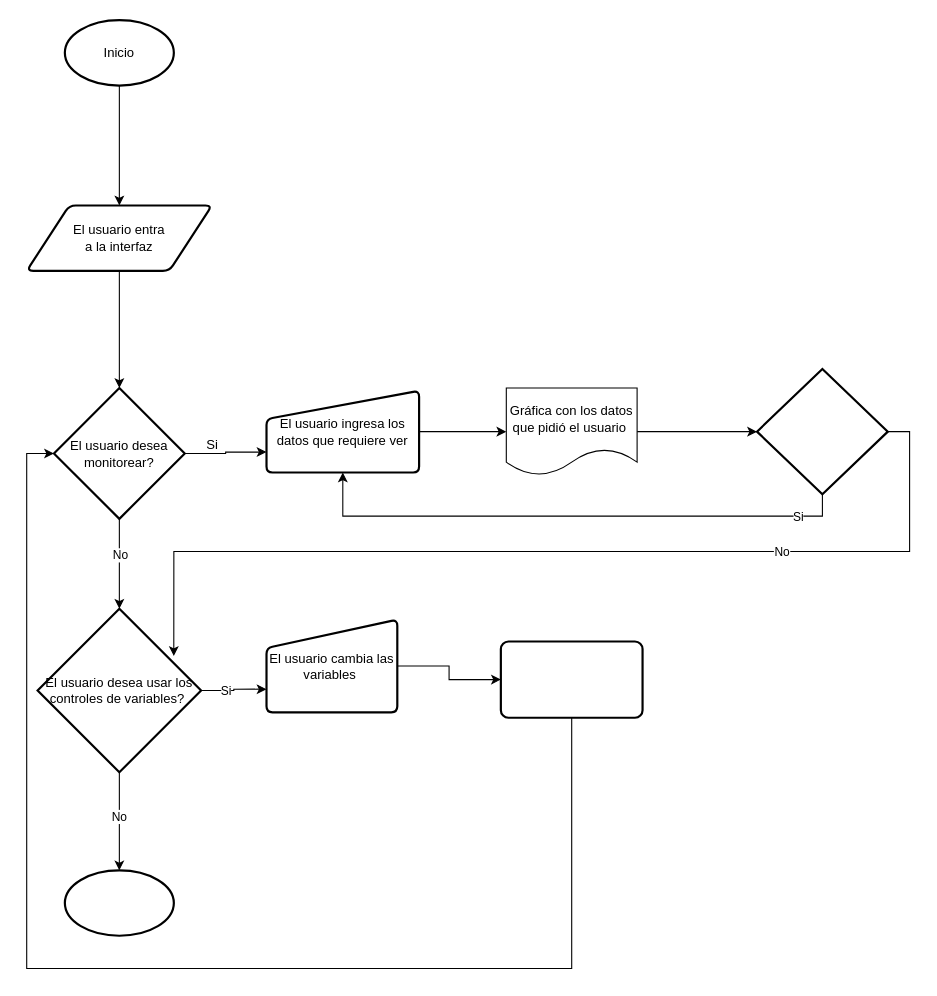
Image size: 937x996. Some labels were removed from this diagram. Here are the shapes that lost their labels. From the top down, the box of each, then its label:
(755, 367, 888, 495): El usuario seguirá monitoreando?
(499, 640, 643, 718): El sistema cambia las variables en la granja vertical
(63, 869, 174, 936): Fin
